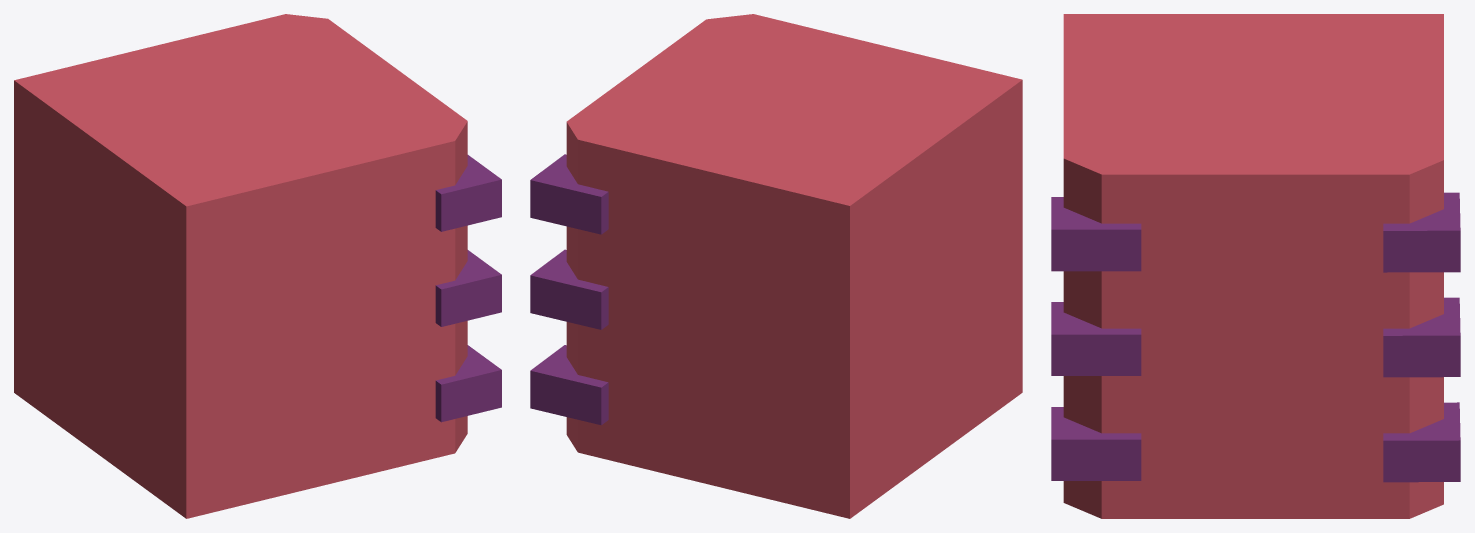
The model's file is 1Left Connect pink Purp .fbx.
The picture shows the model from 3 angles, left to right: view 1: azimuth 30°, elevation 25°; view 2: azimuth 150°, elevation 25°; view 3: azimuth 270°, elevation 25°; orthographic projection. The views are drawn at different scales.
Parts seen in each view (by area): view 1: pCube10; view 2: pCube10; view 3: pCube10.
Boxes of the visible parts, left/top/right/bottom form: pCube10: left=14, top=14, right=501, bottom=518; pCube10: left=530, top=14, right=1022, bottom=518; pCube10: left=1051, top=14, right=1460, bottom=518.
Bounding box in the file's own units: 2.09 × 2 × 2.15.
